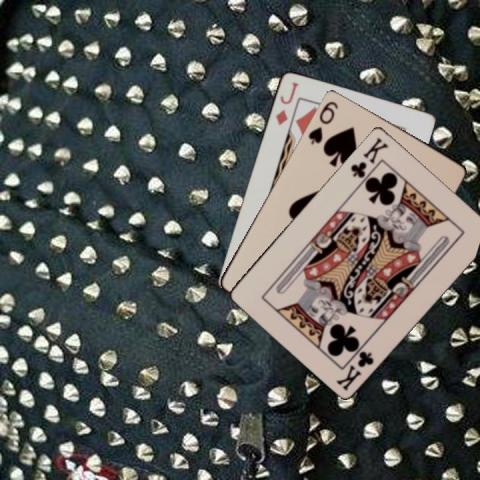6s: (305, 98, 340, 146)
Jd: (272, 79, 300, 126)
Kc: (348, 134, 390, 179), (334, 347, 376, 392)
